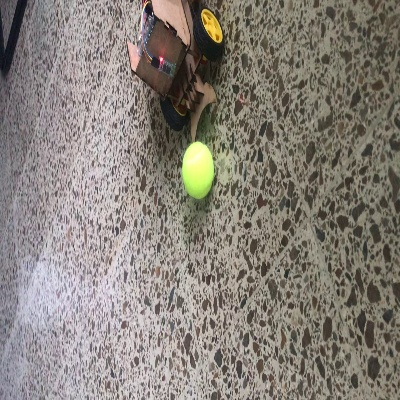Ball: (181, 139, 215, 198)
Robot: (125, 2, 226, 143)
